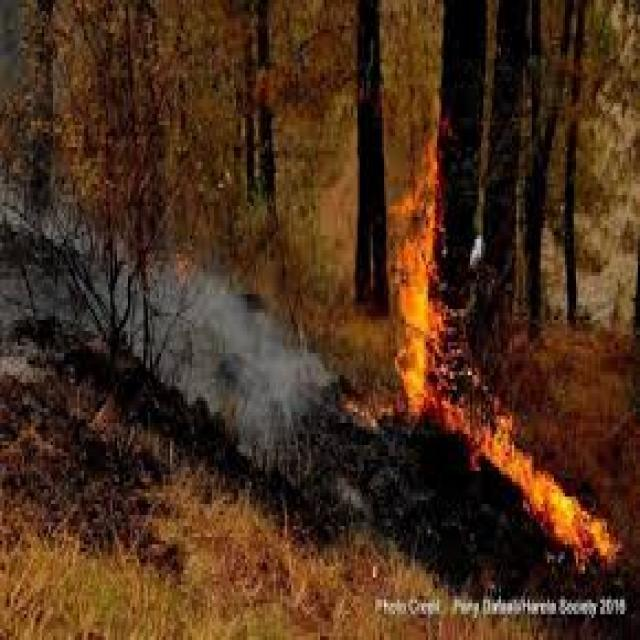Smoke: (0, 168, 389, 526)
